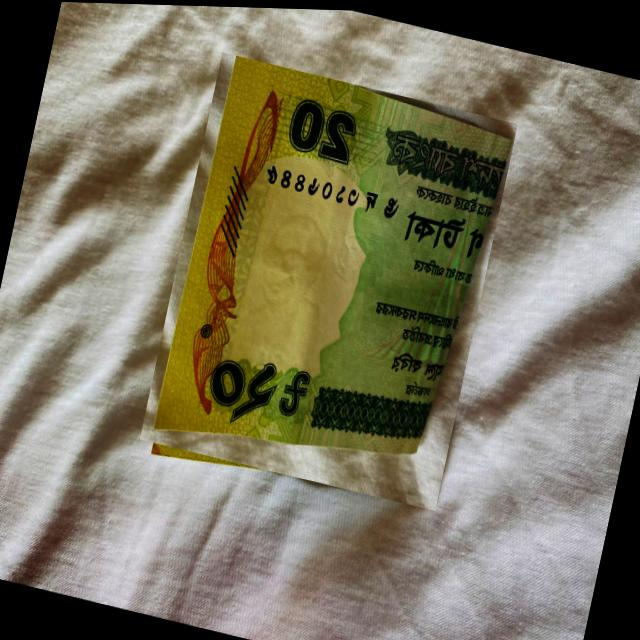Taka: (139, 49, 517, 510)
